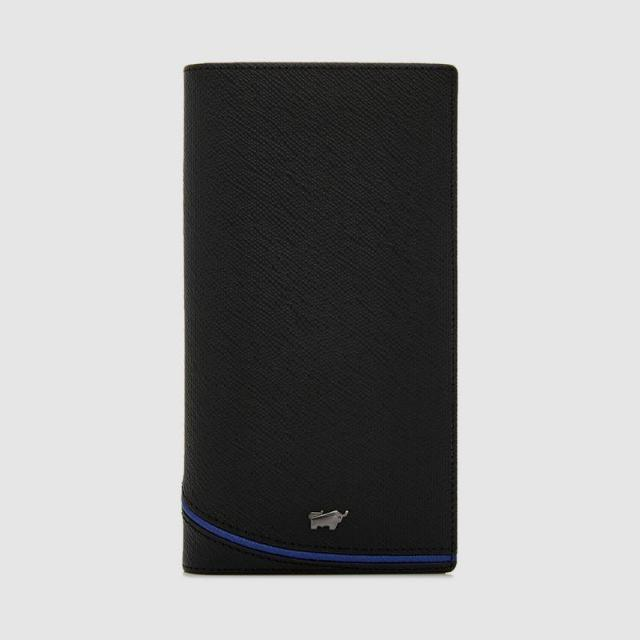wallet: (180, 57, 458, 577)
